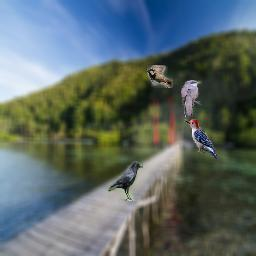Crow: (108, 161, 143, 201)
Cuckoo: (181, 80, 202, 117)
Sparrow: (147, 65, 173, 88)
Woodpecker: (184, 119, 218, 159)
